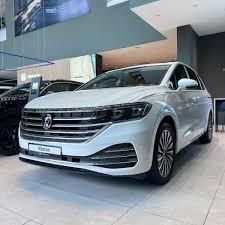volkswagen: (38, 108, 56, 129)
